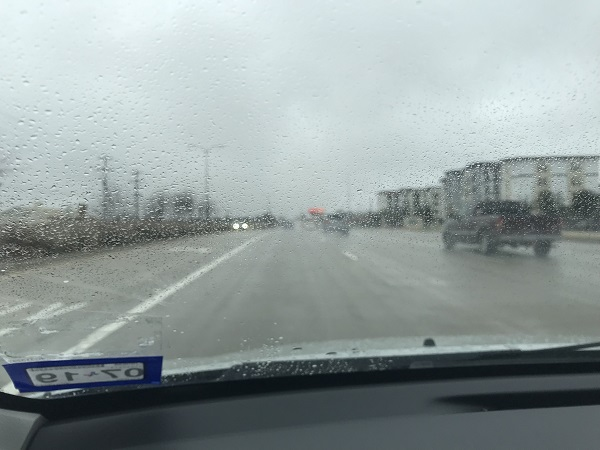truck: (436, 202, 560, 256)
